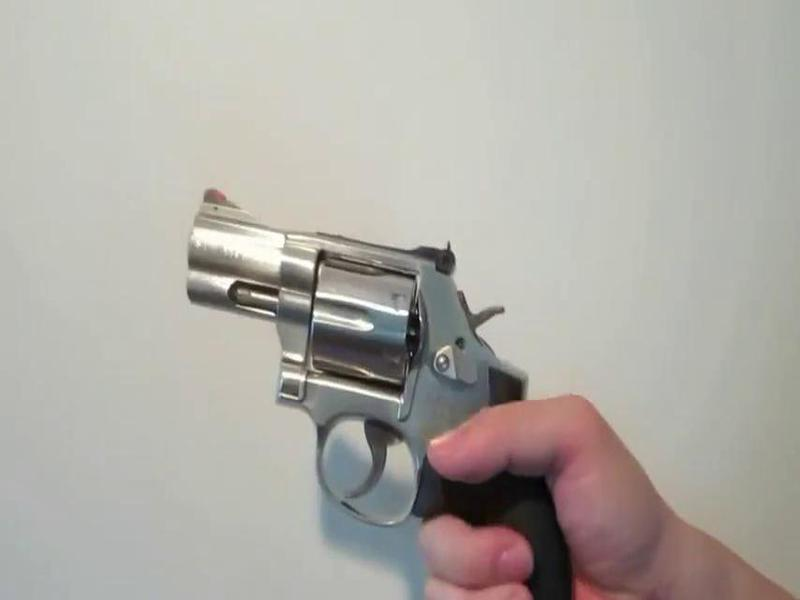Revolver: (157, 157, 566, 549)
